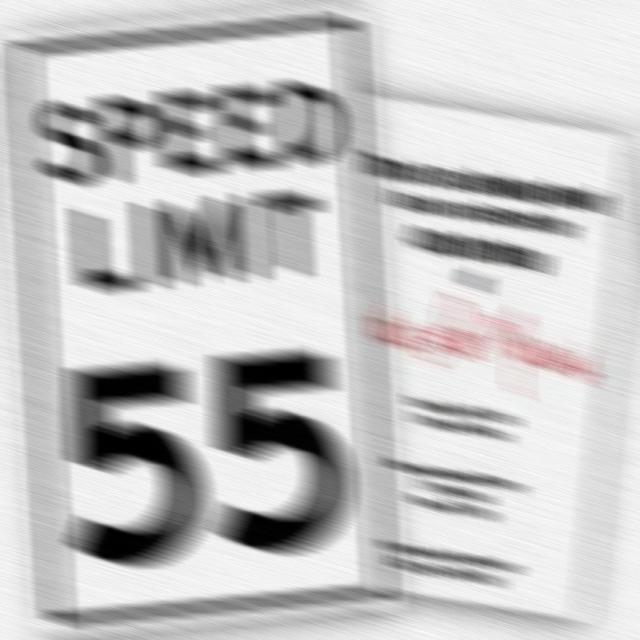speedLimit55: (2, 22, 392, 612)
